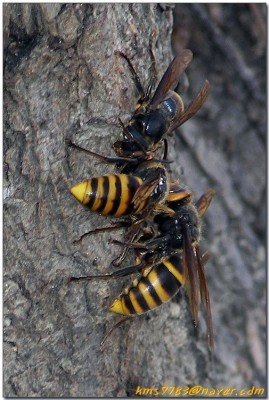asian_giant_hornet: (109, 178, 205, 316), (70, 160, 170, 218)
